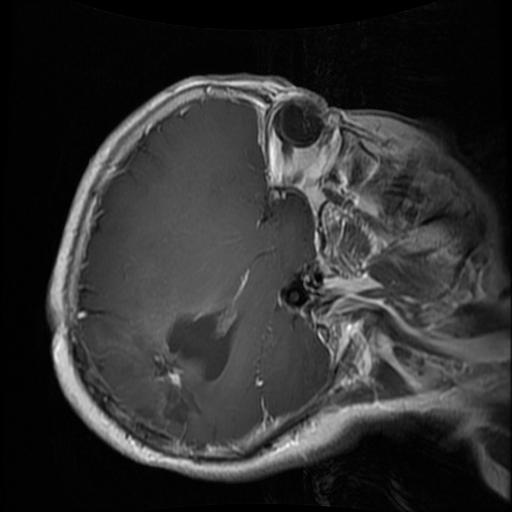glioma: (147, 309, 240, 431)
